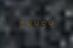four: (25, 20, 31, 28), (32, 20, 38, 28), (46, 20, 52, 28)
nine: (39, 20, 45, 28)
zero: (18, 20, 24, 28)
